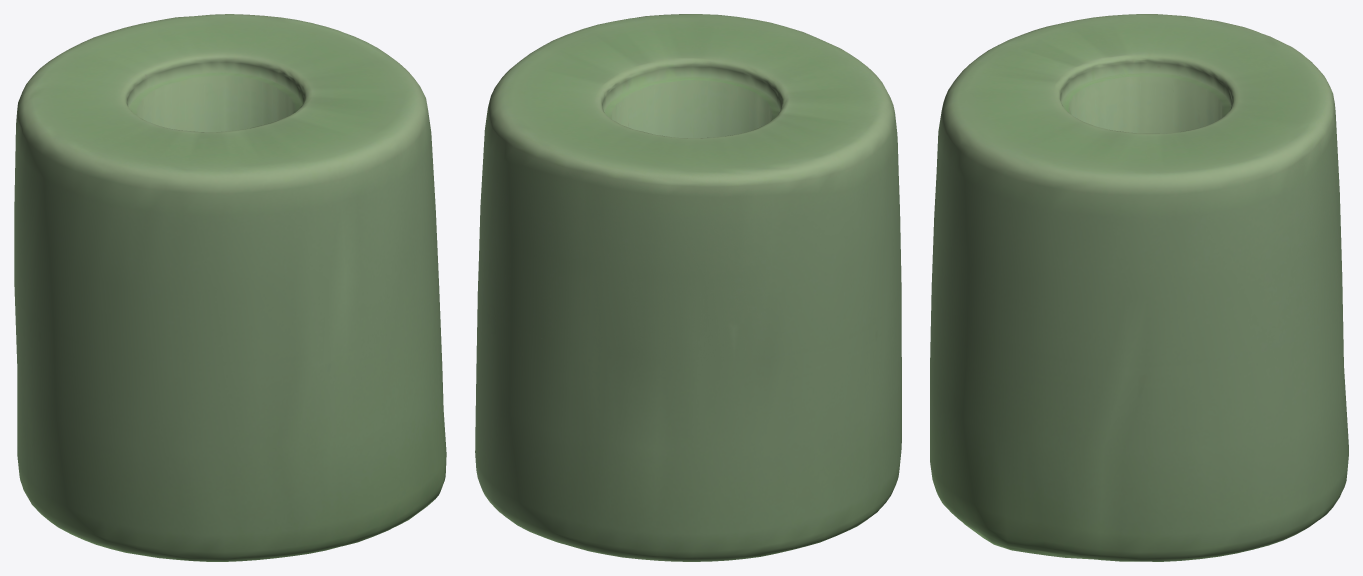
The model's file is green.glb.
3 views of the same model, side by side, from view 1: azimuth 30°, elevation 25°; view 2: azimuth 150°, elevation 25°; view 3: azimuth 270°, elevation 25° (orthographic).
Parts seen in each view (by area): view 1: tripo_node_a0eb5f88-85be-49c8-961b-372ebcec9f0a; view 2: tripo_node_a0eb5f88-85be-49c8-961b-372ebcec9f0a; view 3: tripo_node_a0eb5f88-85be-49c8-961b-372ebcec9f0a.
Boxes of the visible parts, x1,y1,x2,y2 form: tripo_node_a0eb5f88-85be-49c8-961b-372ebcec9f0a: (14,14,446,561); tripo_node_a0eb5f88-85be-49c8-961b-372ebcec9f0a: (475,14,901,561); tripo_node_a0eb5f88-85be-49c8-961b-372ebcec9f0a: (930,14,1348,561).
Size of the model in its own units: 0.998 by 0.998 by 0.9824.
Materials: 1 (1 with a texture image).
